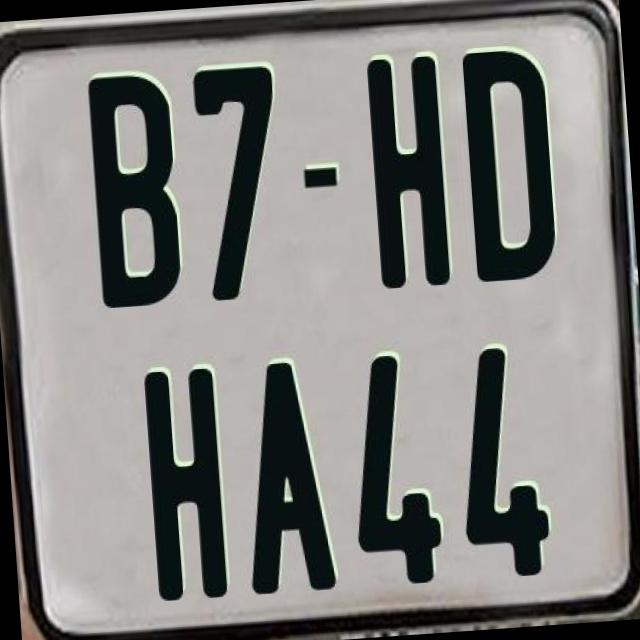4: (344, 348, 448, 584), (453, 342, 553, 586)
7: (191, 63, 294, 302)
A: (234, 358, 336, 598)
B: (85, 72, 185, 312)
D: (459, 43, 555, 282)
H: (140, 367, 230, 611), (366, 54, 457, 290)
